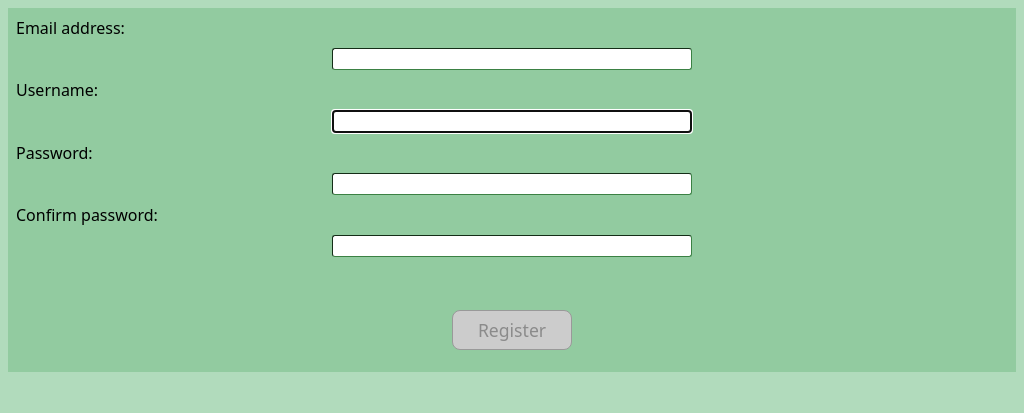
Test: registration form › input validation › email › renders error message for existing email
Type "already-exists@example.com" into the field labelled "Email address:". click: (512, 59)
box: top-left (332, 48), bottom-right (692, 70)
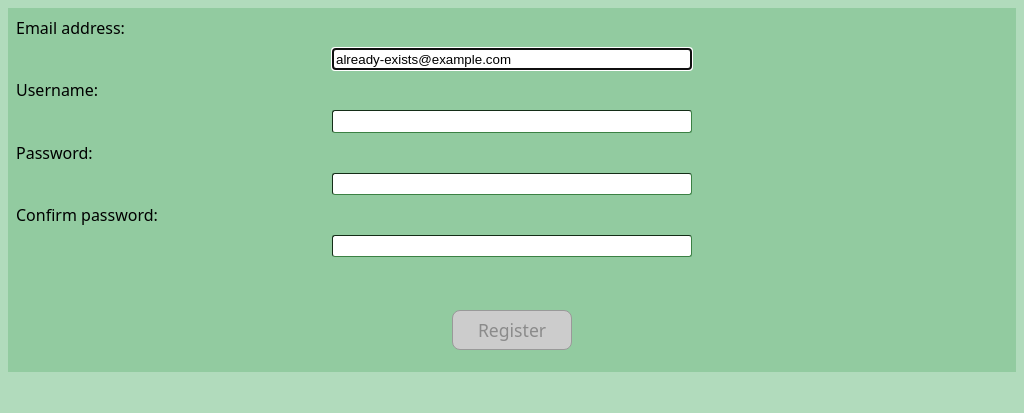
Type "validUser" into the field labelled "Username:". click: (512, 121)
box: top-left (332, 110), bottom-right (692, 133)
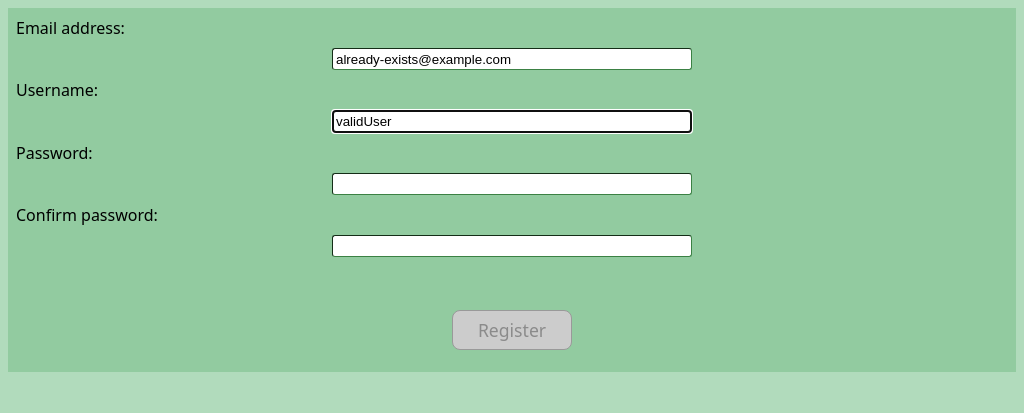
Type "MyPwd123!" into the password field labelled "Password:". click: (512, 184)
box: top-left (332, 173), bottom-right (692, 195)
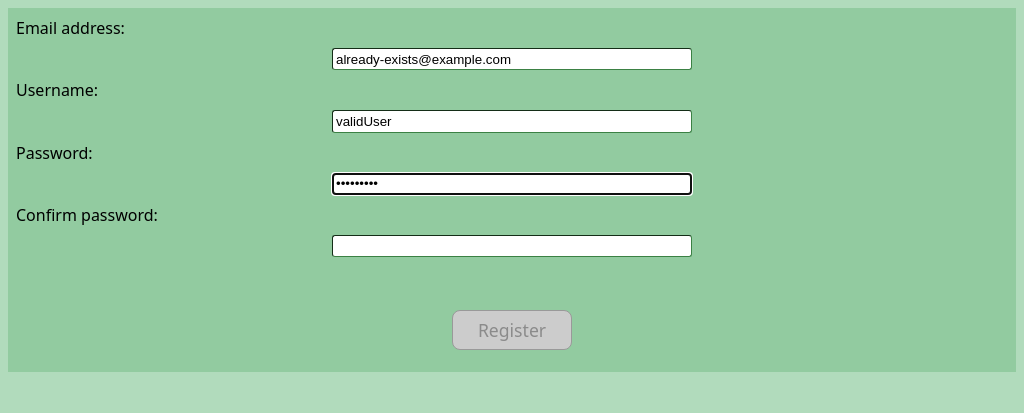
Type "MyPwd123!" into the password field labelled "Confirm password:". click: (512, 246)
box: top-left (332, 235), bottom-right (692, 257)
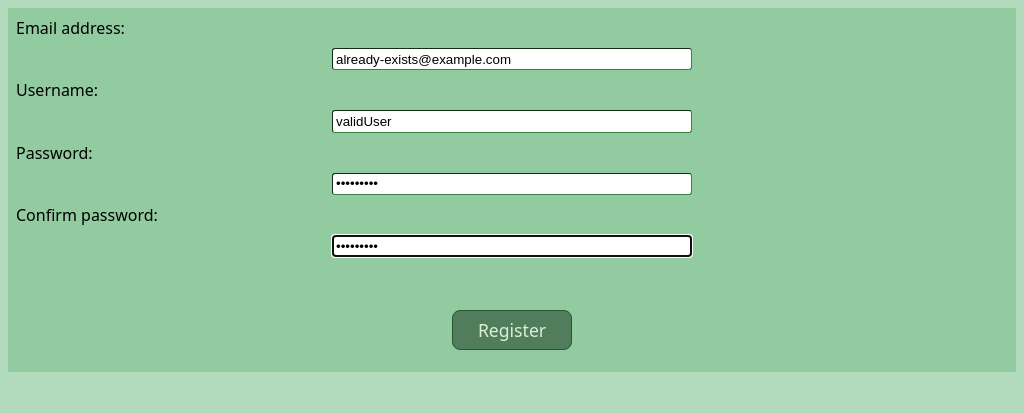
Click the button "Register". click: (512, 330)
box: top-left (452, 310), bottom-right (572, 350)
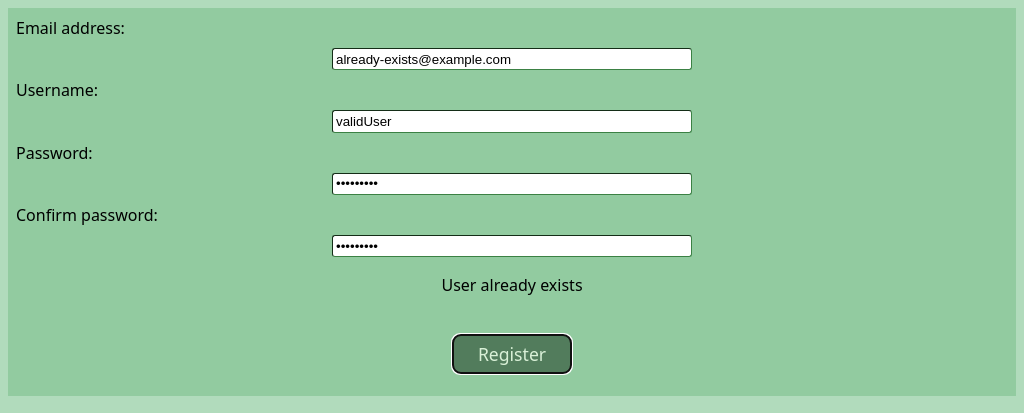
Expected: the text "User already exists" is shown, top-left (441, 273), bottom-right (582, 297)
